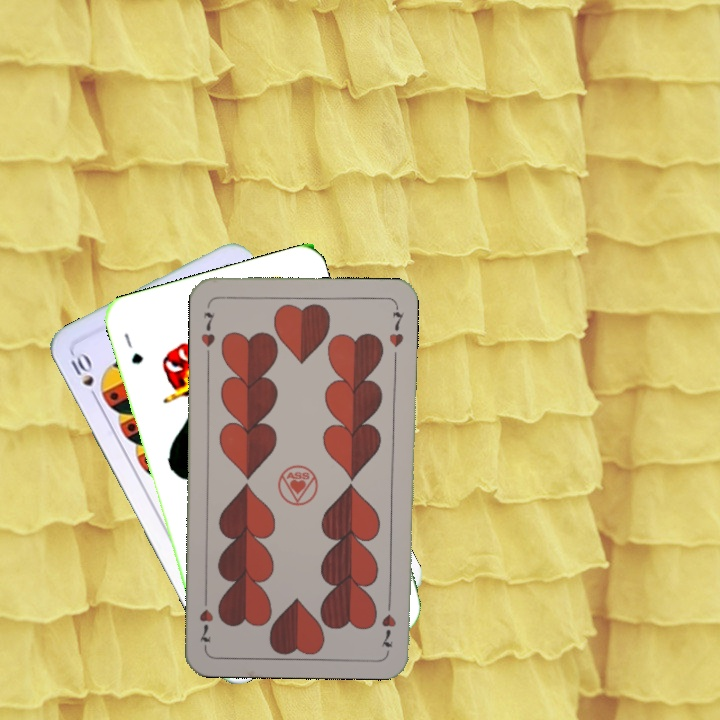GU: (120, 329, 146, 367)
H7: (378, 594, 399, 650), (197, 308, 218, 349)
S10: (66, 348, 101, 404)
